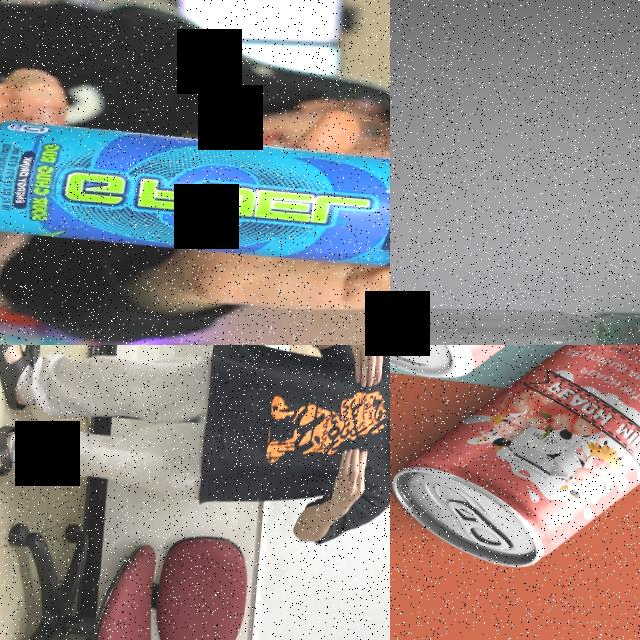bottle: (390, 291, 640, 345)
can: (0, 116, 390, 272), (390, 345, 640, 581)
